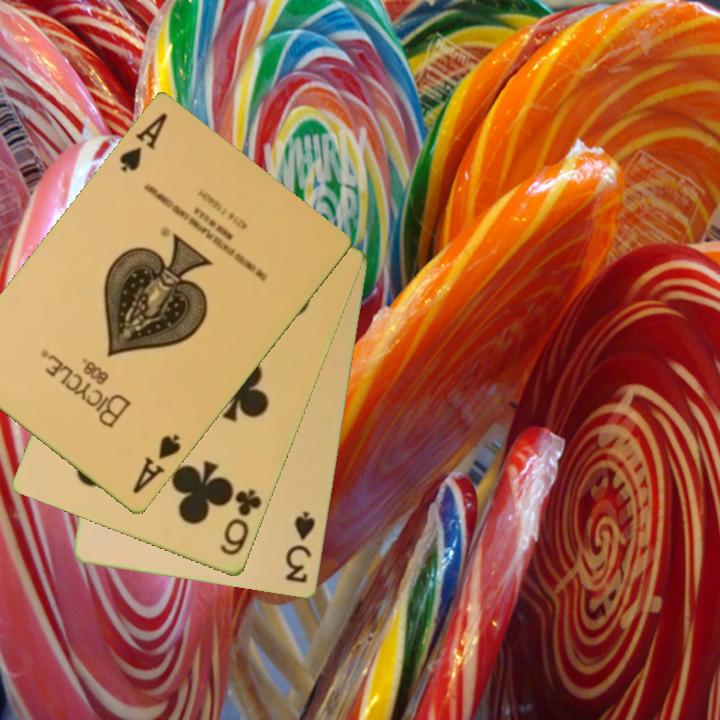3s: (282, 508, 319, 587)
6c: (217, 486, 265, 559)
As: (129, 431, 184, 498), (116, 109, 171, 176)
